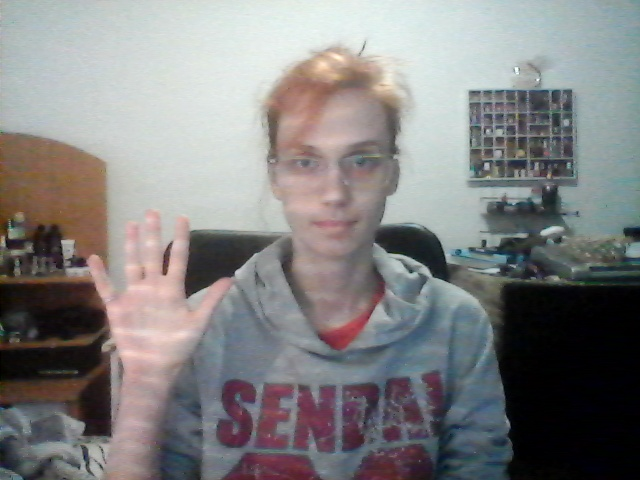ahoj: (72, 195, 237, 373)
